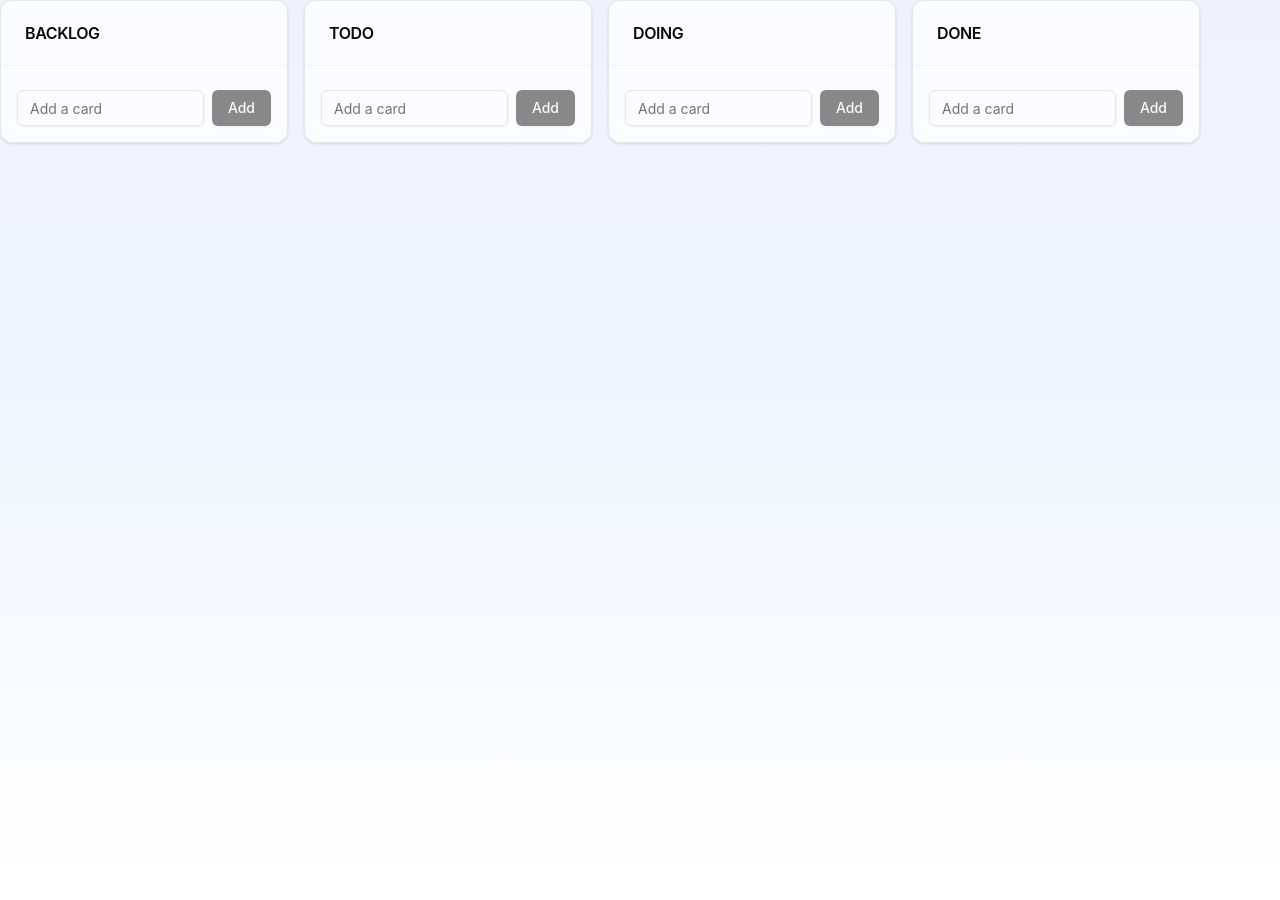
Test: Board component › adds tasks via the column form
Type "Ship feature" into the field with placeholder "Add a card" below "BACKLOG".
click(110, 108); type("Ship feature")  # box [17,90,204,126]
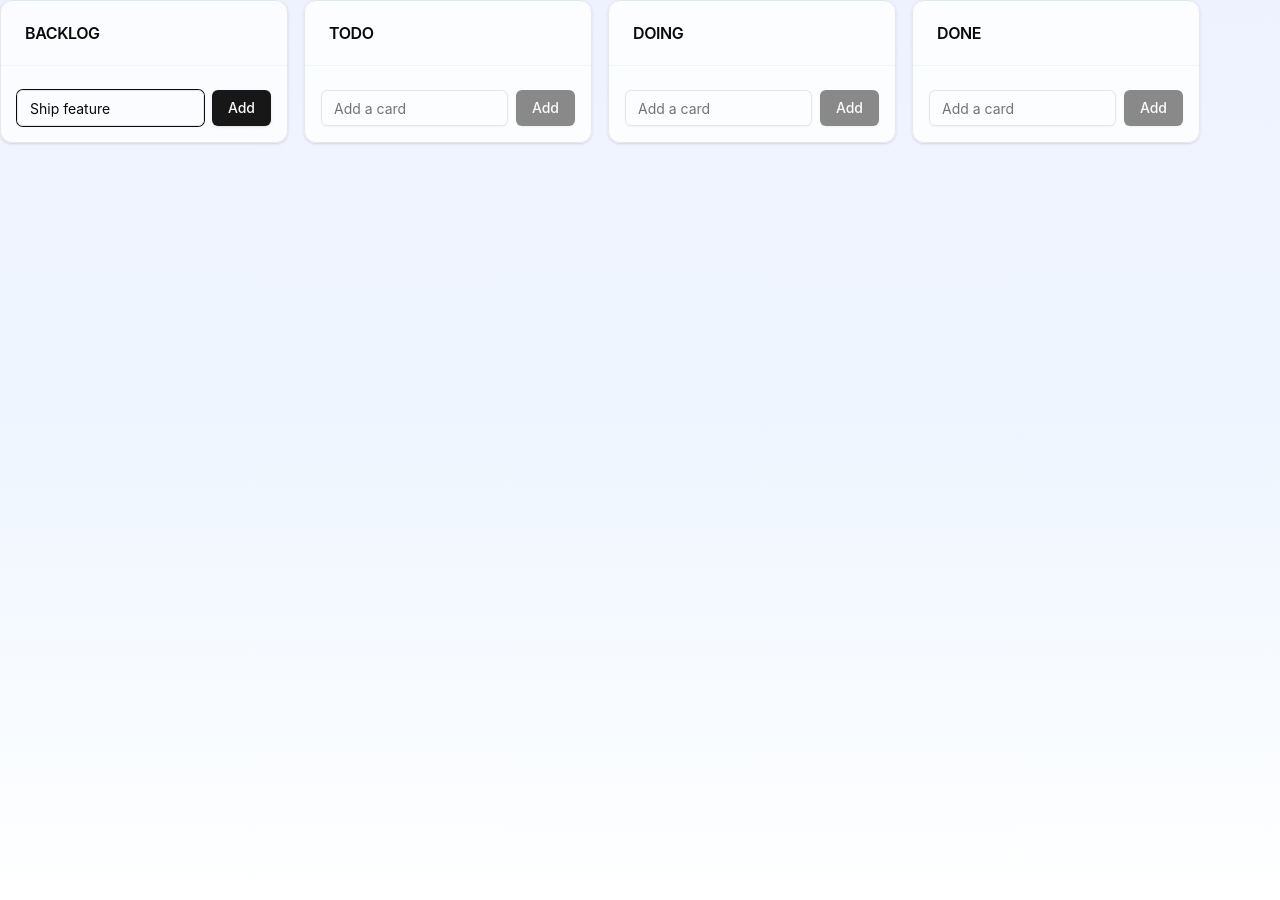
Click the button "Add" below "BACKLOG".
click(241, 108)  # box [212,90,271,126]
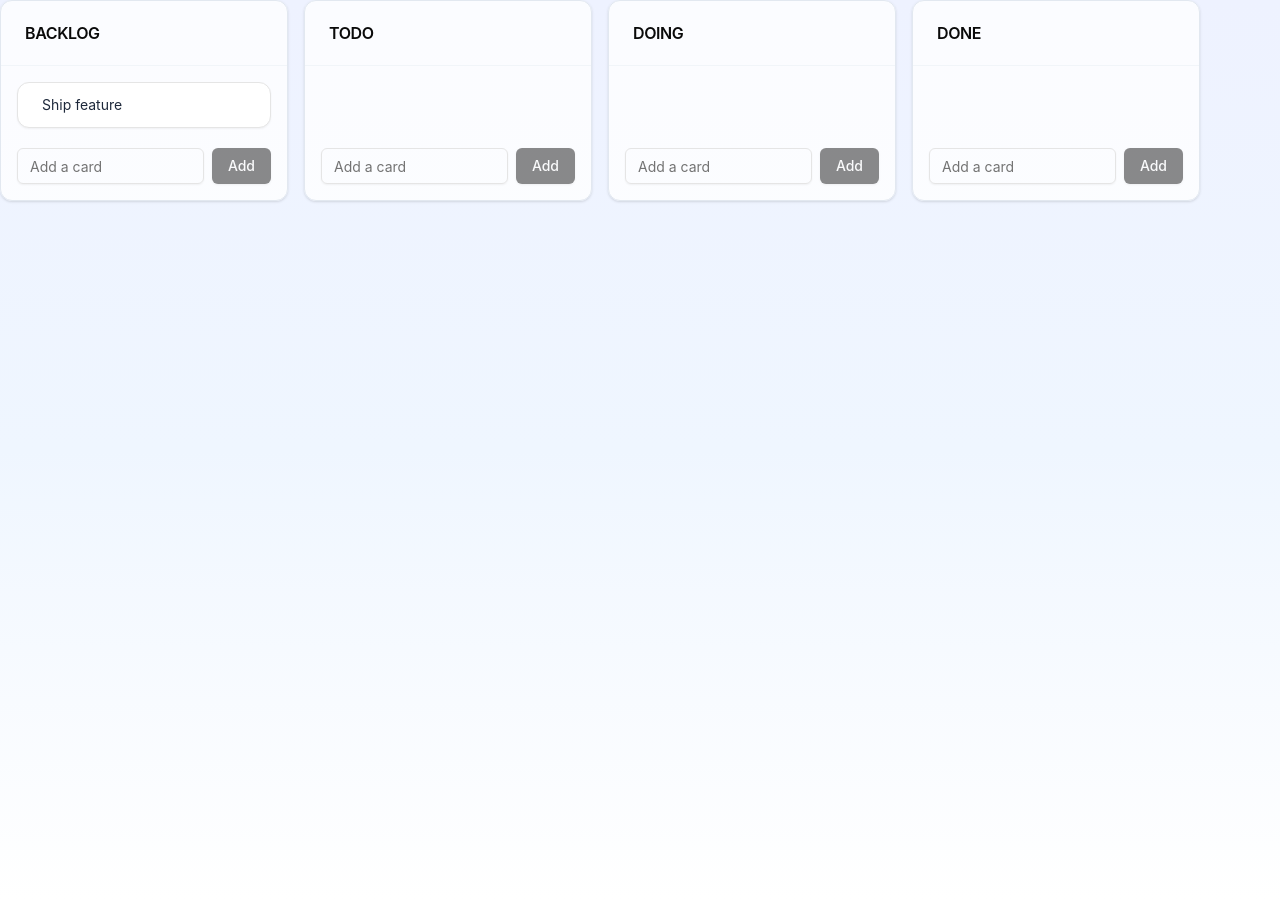
Expected: the text "Ship feature" is shown, [42,96,122,113]
